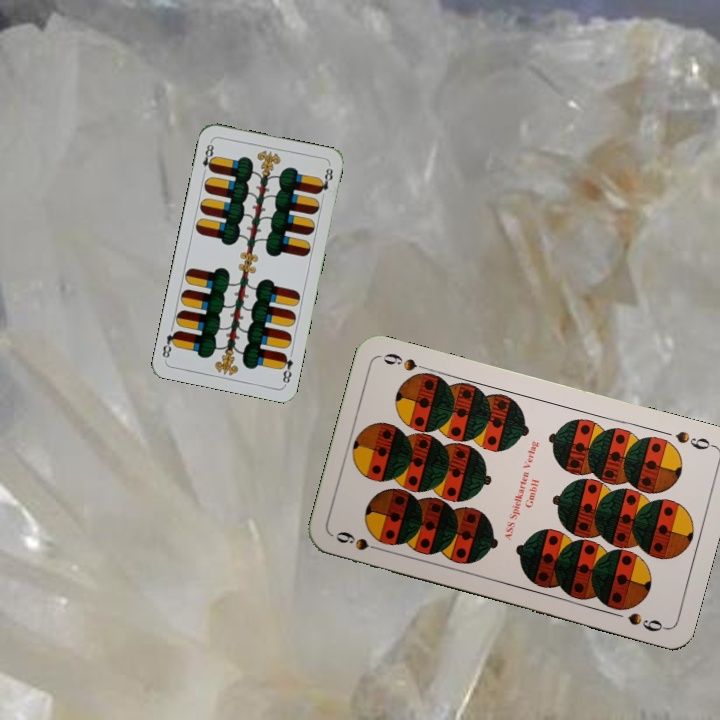E8: (198, 137, 217, 178), (277, 349, 296, 387)
S9: (331, 527, 389, 555), (671, 427, 718, 452)
